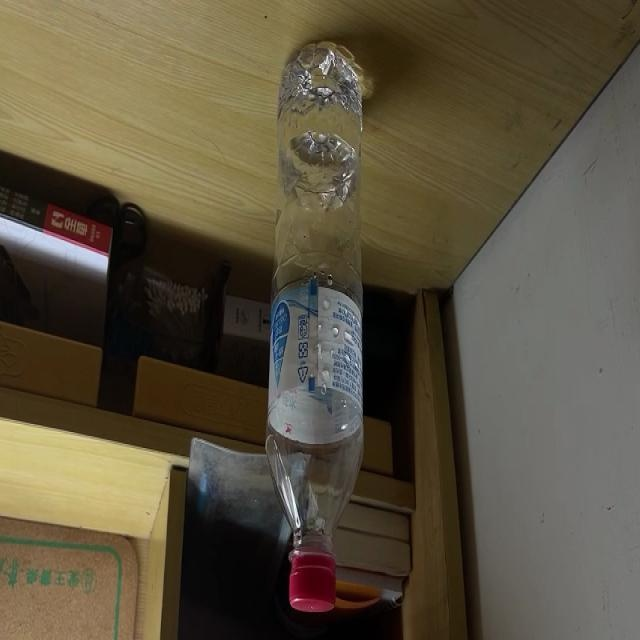Water: (264, 37, 360, 615)
